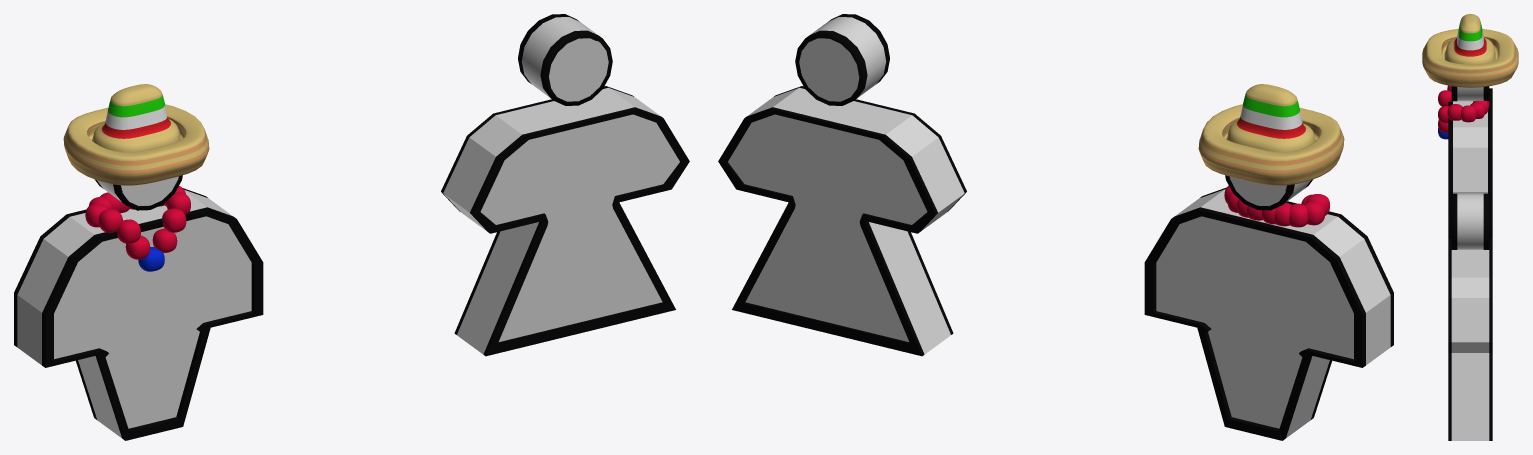
Rendered from People_female2.fbx.
3 views of the same model, side by side, from view 1: azimuth 30°, elevation 25°; view 2: azimuth 150°, elevation 25°; view 3: azimuth 270°, elevation 25° (orthographic). The views are drawn at different scales.
Visible parts, largest first — view 1: Cube.001, Cube, Hut, Pearls; view 2: Cube.001, Cube, Hut, Pearls; view 3: Cube.001, Hut, Cube, Pearls.
Boxes of the visible parts, box(x1,y1,x2,y2) form: Cube.001: box(441, 14, 689, 356); Cube: box(14, 175, 263, 440); Hut: box(63, 84, 209, 185); Pearls: box(85, 186, 190, 271); Cube.001: box(718, 14, 966, 356); Cube: box(1144, 175, 1393, 440); Hut: box(1198, 84, 1344, 185); Pearls: box(1224, 185, 1330, 227); Cube.001: box(1448, 193, 1492, 440); Hut: box(1422, 14, 1518, 87); Cube: box(1448, 86, 1492, 238); Pearls: box(1438, 85, 1489, 139).
Bounding box in the file's own units: 1142 × 573 × 208.
